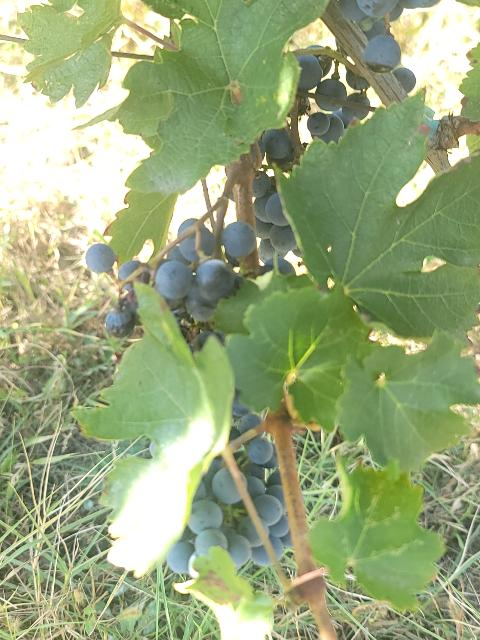grapes: (260, 55, 370, 170), (166, 456, 271, 574), (154, 221, 256, 324), (234, 434, 292, 559), (254, 170, 298, 261), (106, 284, 139, 338), (230, 401, 261, 440), (118, 260, 151, 284), (191, 329, 225, 351), (89, 244, 115, 272)
